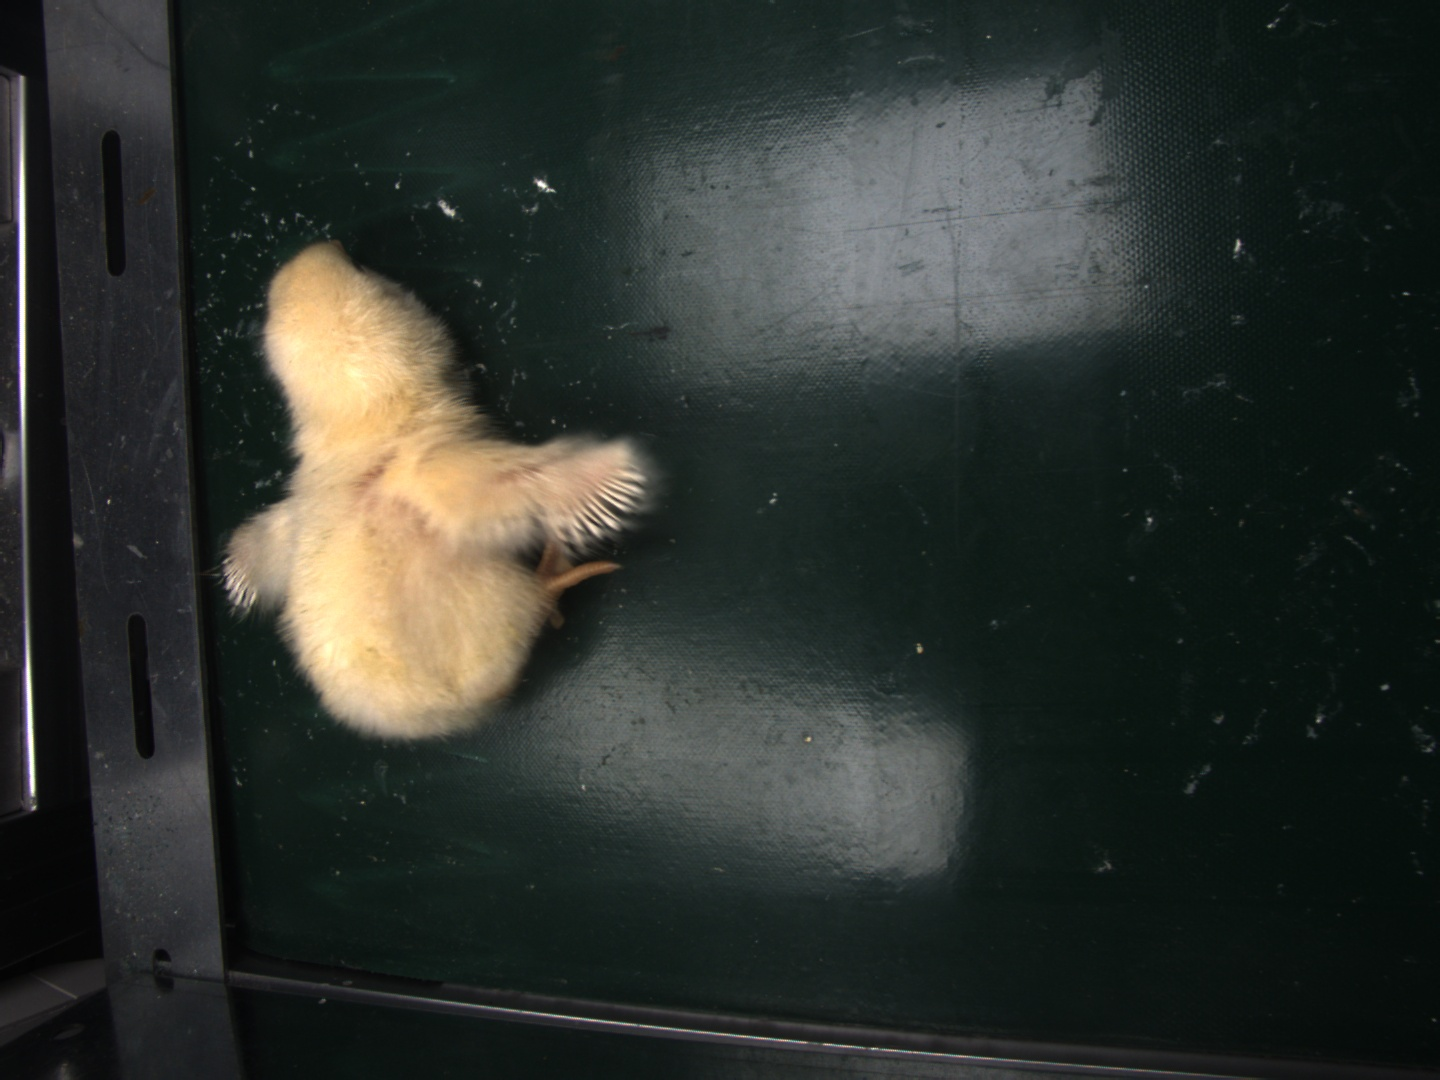male: (567, 462, 646, 540)
